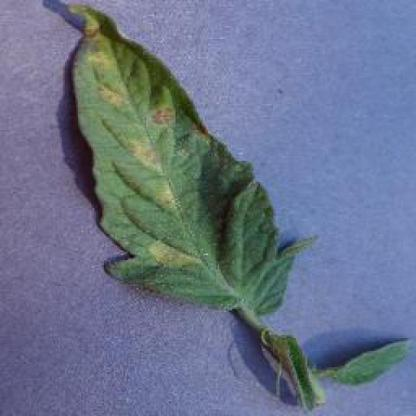Tomato_Leaf_Mold: (65, 4, 279, 307)
